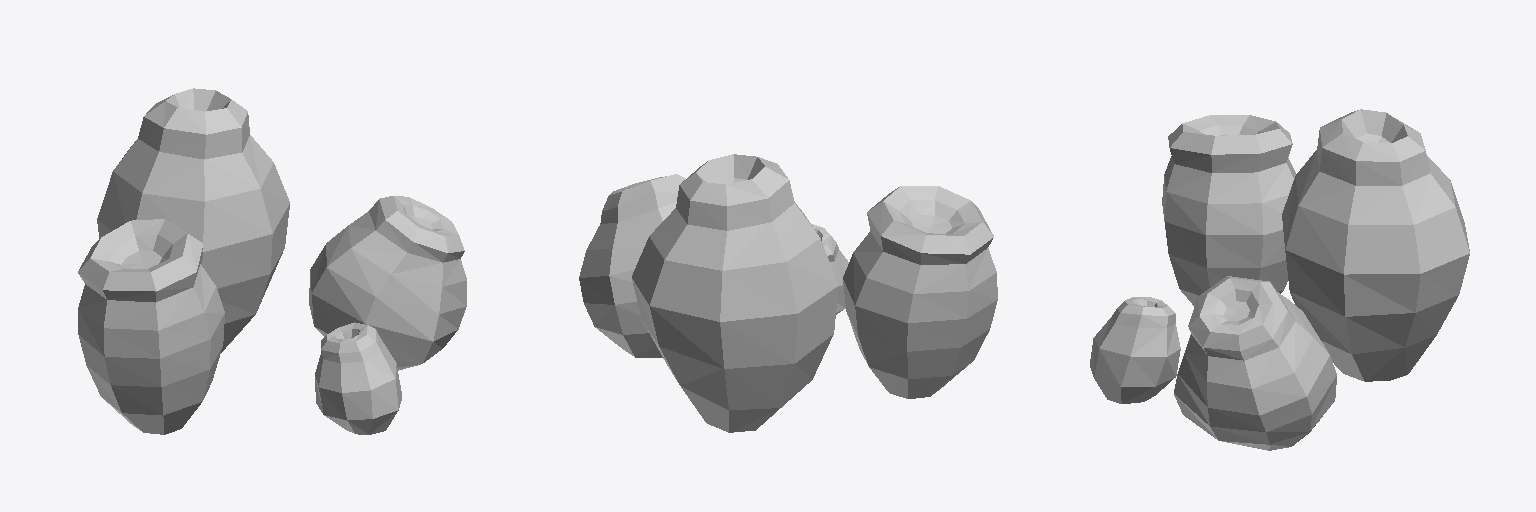
File: Sponge_B_03_LOD1.obj
The picture shows the model from 3 angles: view 1: azimuth 30°, elevation 25°; view 2: azimuth 150°, elevation 25°; view 3: azimuth 270°, elevation 25°; orthographic projection.
Visible parts, largest first — view 1: Sponge_B_03_LOD1_Cylinder.385; view 2: Sponge_B_03_LOD1_Cylinder.385; view 3: Sponge_B_03_LOD1_Cylinder.385.
Part boxes in pixels (x1,y1,x2,y2): Sponge_B_03_LOD1_Cylinder.385: (78, 88, 466, 434); Sponge_B_03_LOD1_Cylinder.385: (579, 154, 997, 432); Sponge_B_03_LOD1_Cylinder.385: (1090, 109, 1469, 450).
Bounding box in the file's own units: 5.44 × 3.5 × 4.7.